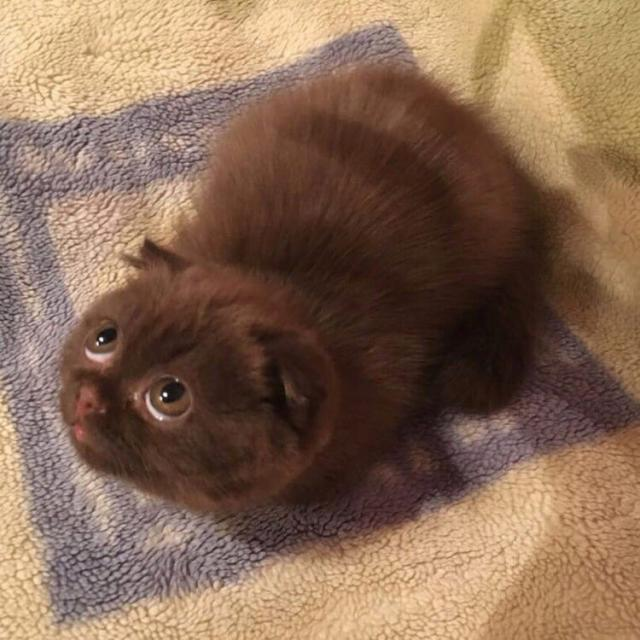da khoe manh: (282, 124, 450, 332)
